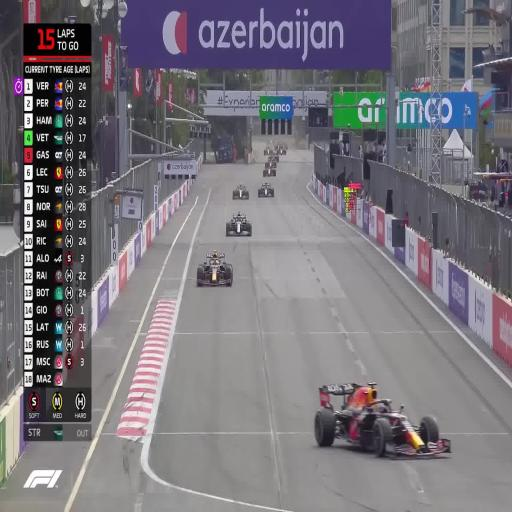f1_car: (314, 382, 451, 457), (196, 250, 233, 286), (226, 212, 251, 236), (233, 184, 249, 199), (258, 182, 274, 197), (263, 161, 276, 176), (275, 145, 287, 155), (274, 142, 288, 150), (267, 153, 279, 162), (263, 146, 274, 155), (285, 152, 285, 154)
